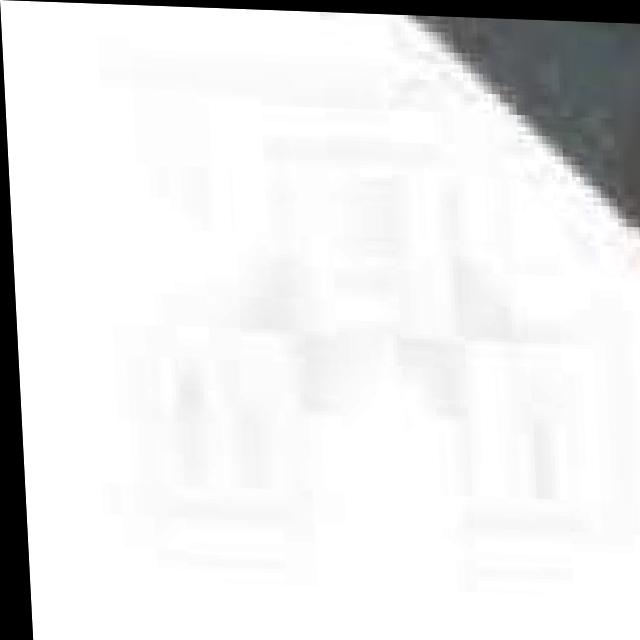potentiometer: (232, 7, 640, 611)
